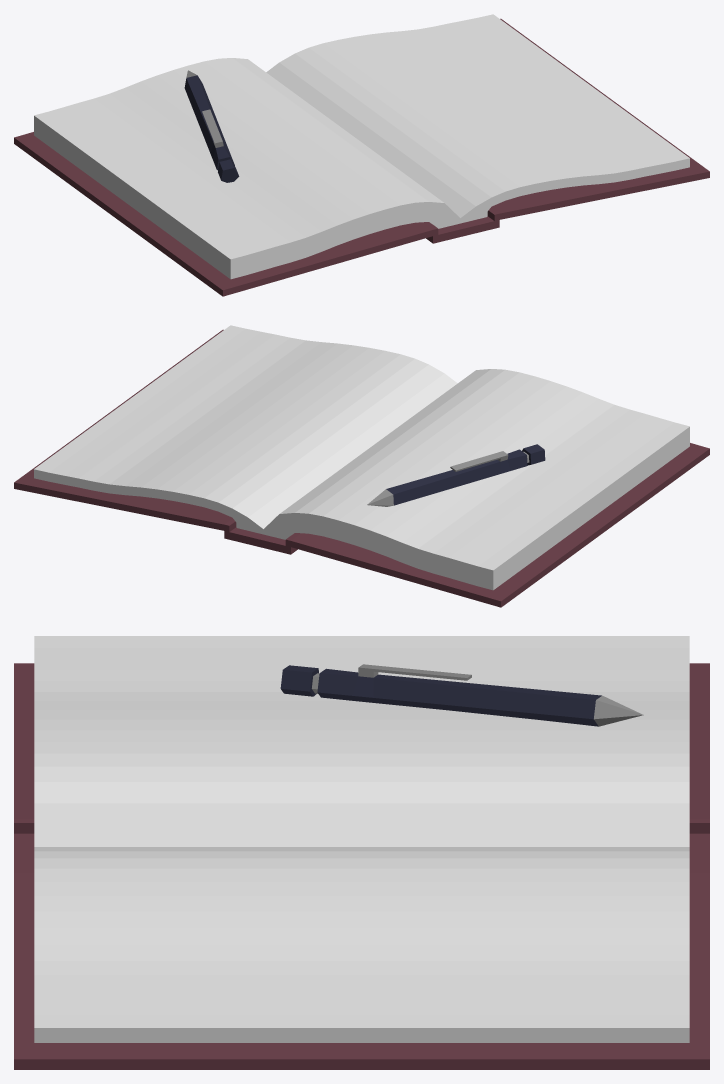
Rendered from Notebook.glb.
3 renders of one model, top to bottom at view 1: azimuth 30°, elevation 25°; view 2: azimuth 150°, elevation 25°; view 3: azimuth 270°, elevation 25°, orthographic. The views are drawn at different scales.
Parts seen in each view (by area): view 1: Plane.001, Cube, Pen; view 2: Plane.001, Cube, Pen; view 3: Plane.001, Cube, Pen.
Boxes of the visible parts, bbox=[...] form: Plane.001: bbox=[34, 14, 689, 279]; Cube: bbox=[14, 18, 709, 296]; Pen: bbox=[184, 70, 239, 182]; Plane.001: bbox=[34, 325, 689, 590]; Cube: bbox=[14, 329, 709, 607]; Pen: bbox=[367, 444, 545, 506]; Plane.001: bbox=[34, 636, 689, 1042]; Cube: bbox=[14, 663, 709, 1069]; Pen: bbox=[280, 664, 643, 726].
Size of the model in its own units: 1.55 by 0.176 by 1.15.
